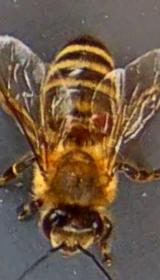varroa_mite: (82, 100, 122, 140)
